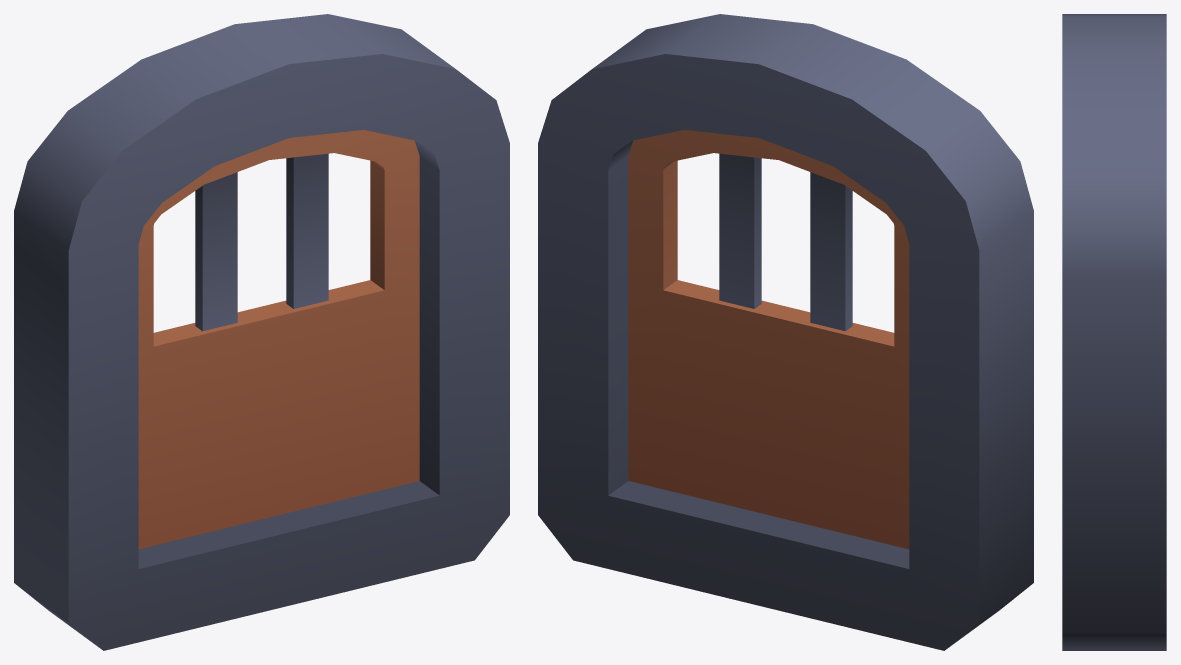
Rendered from crypt-large-door.glb.
3 renders of one model, left to right at view 1: azimuth 30°, elevation 25°; view 2: azimuth 150°, elevation 25°; view 3: azimuth 270°, elevation 25°, orthographic. The views are drawn at different scales.
Visible parts, largest first — view 1: door; view 2: door; view 3: door.
Part boxes in pixels (x1,y1,x2,y2): door: [14, 14, 509, 650]; door: [538, 14, 1033, 650]; door: [1062, 14, 1166, 650].
Bounding box in the file's own units: 0.63 × 0.7391 × 0.135.
